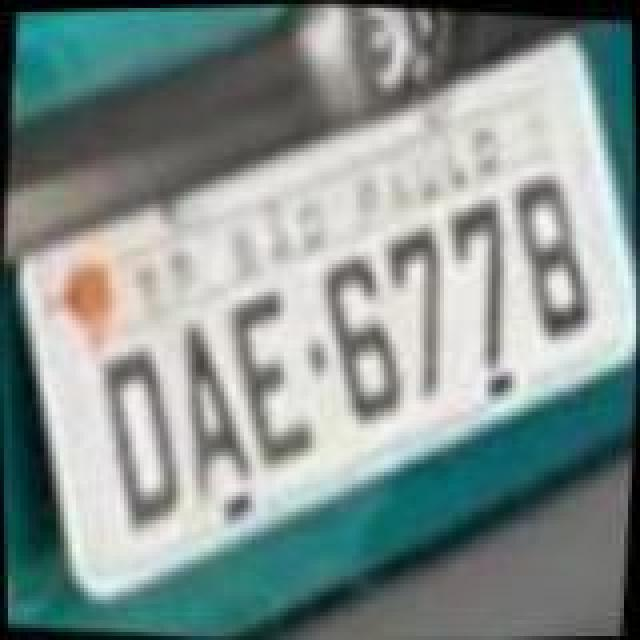6: (304, 246, 412, 426)
7: (370, 216, 458, 396), (430, 190, 514, 370)
8: (494, 170, 602, 350)
A: (164, 314, 268, 506)
D: (80, 338, 196, 538)
E: (212, 278, 332, 474)
